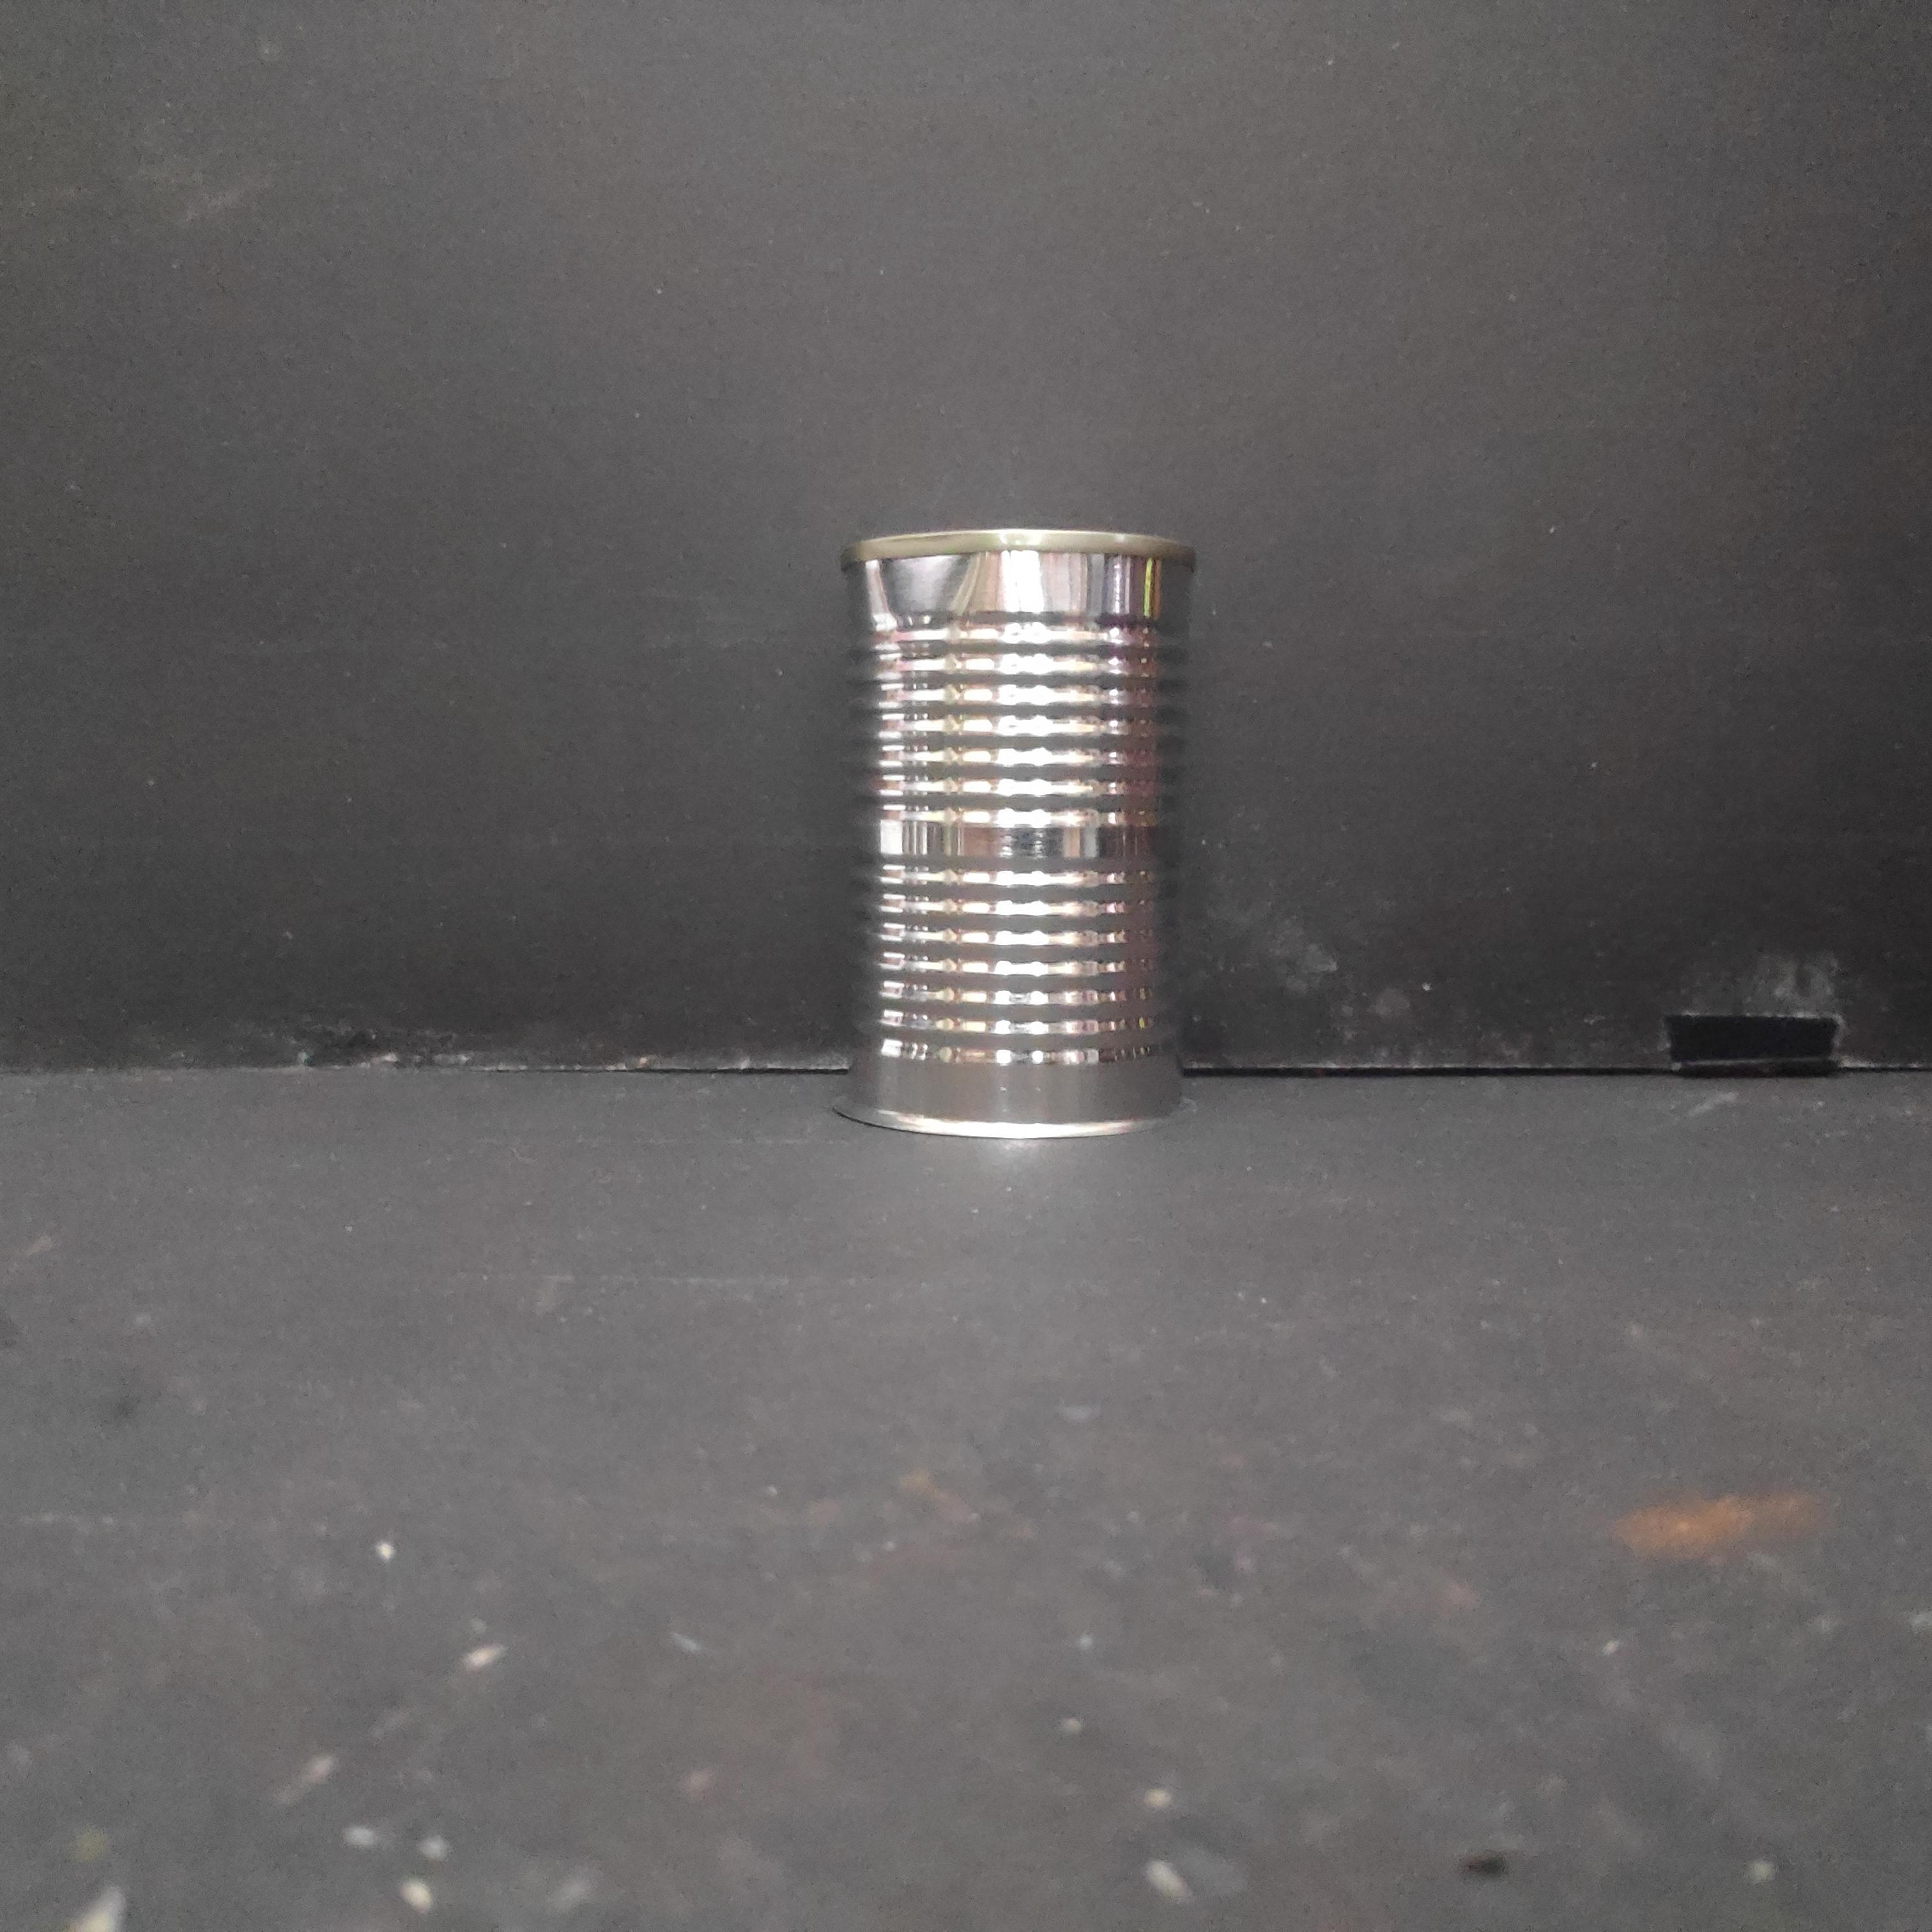Dented: (840, 504, 1207, 1134)
